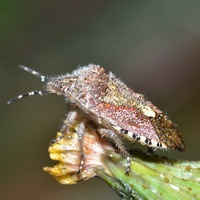insect: (19, 64, 184, 175), (50, 117, 85, 174)
